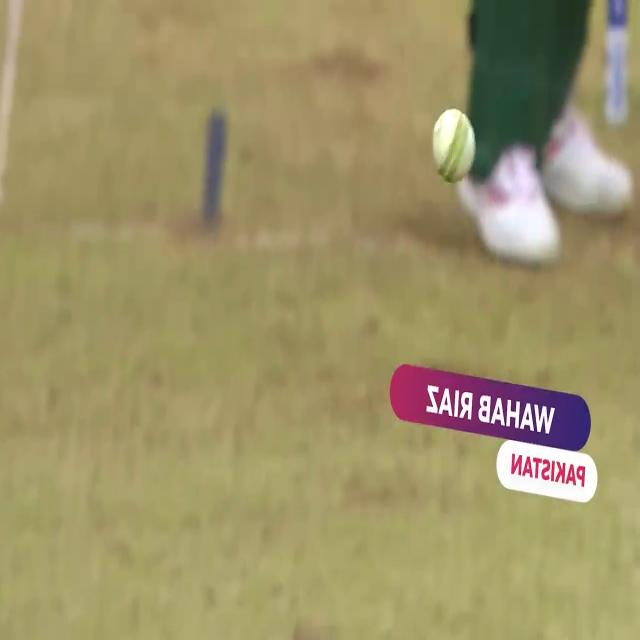ball: (428, 104, 478, 194)
